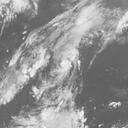cyclone: (28, 42, 84, 102)
